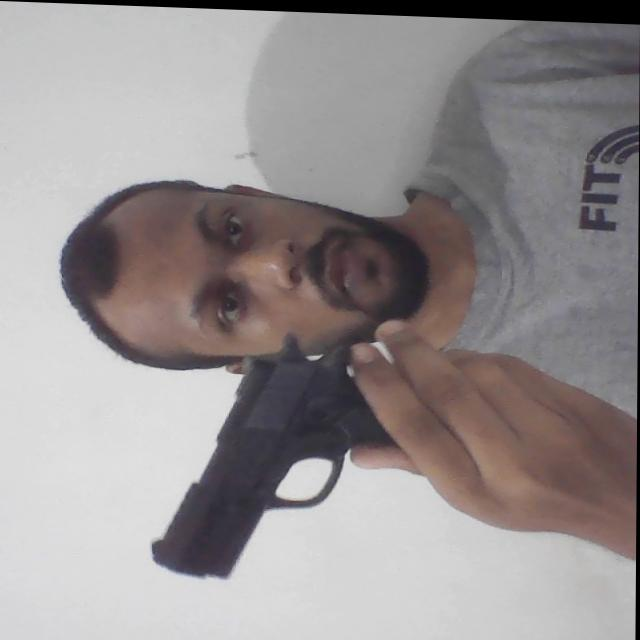handgun: (148, 326, 399, 586)
